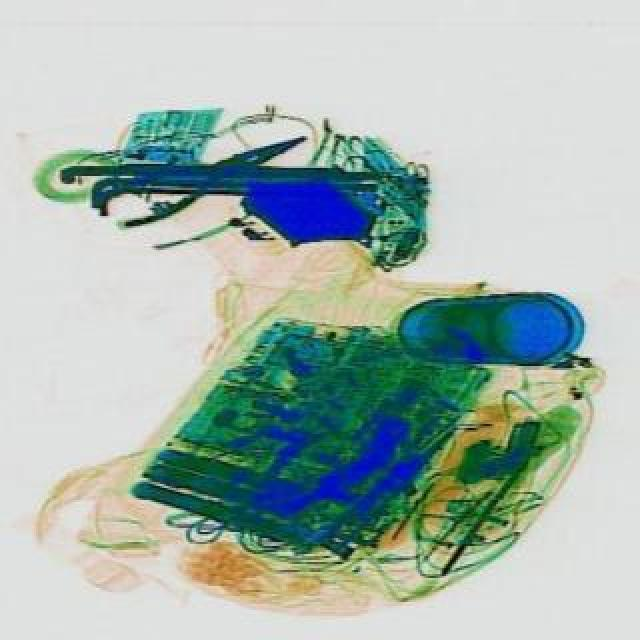wrench: (86, 116, 314, 236)
